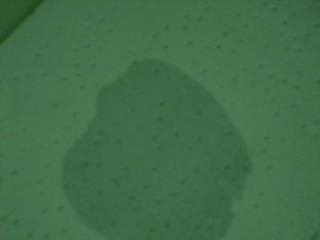Water_detected: (86, 86, 219, 225)
